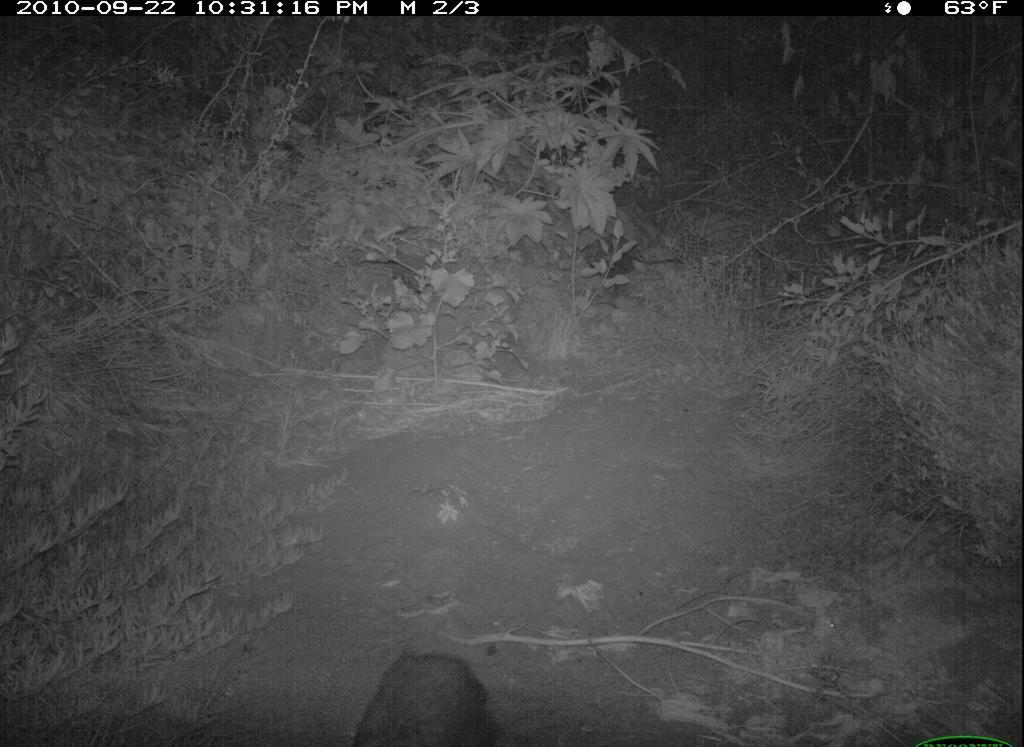raccoon: (344, 643, 519, 747)
